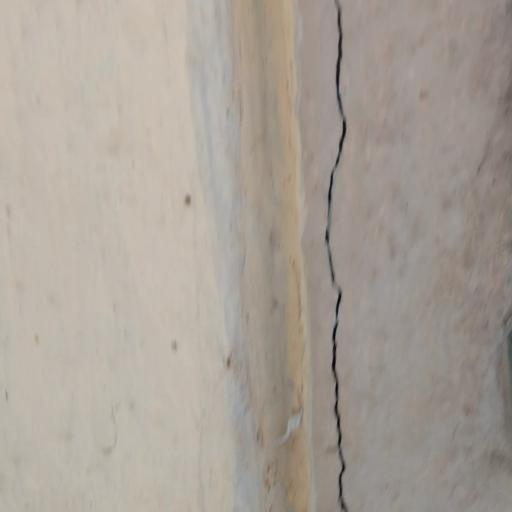major_crack: (326, 0, 371, 512)
